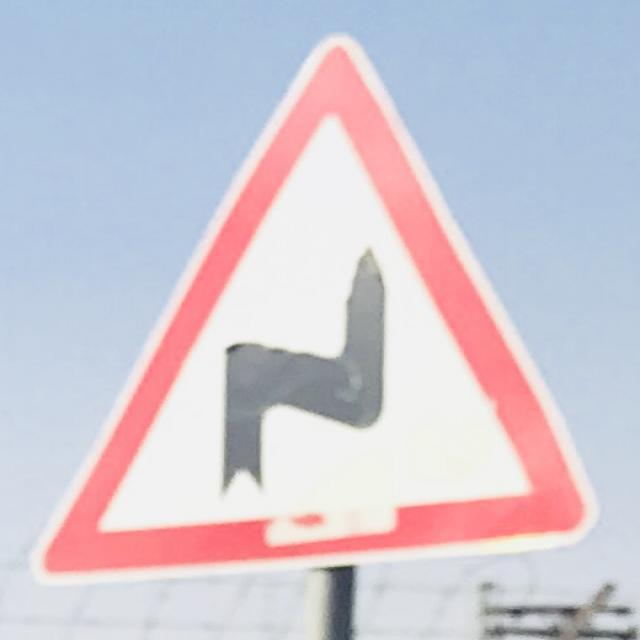right reverse bend: (29, 41, 587, 582)
